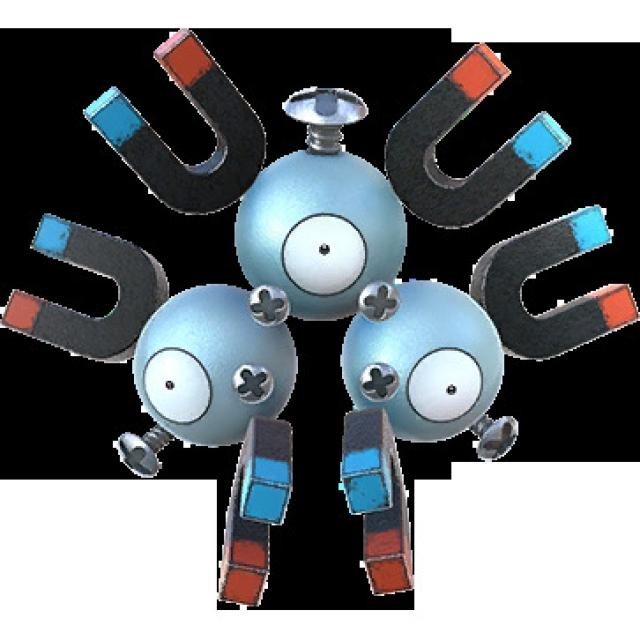Magneton: (60, 25, 553, 481)
